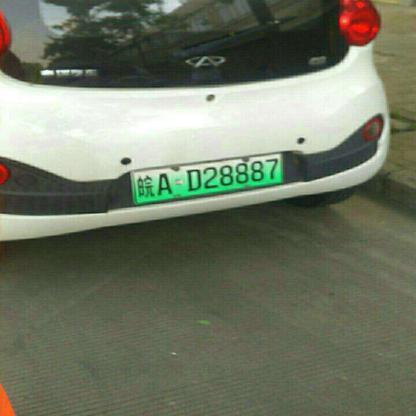lp: (132, 152, 284, 203)
